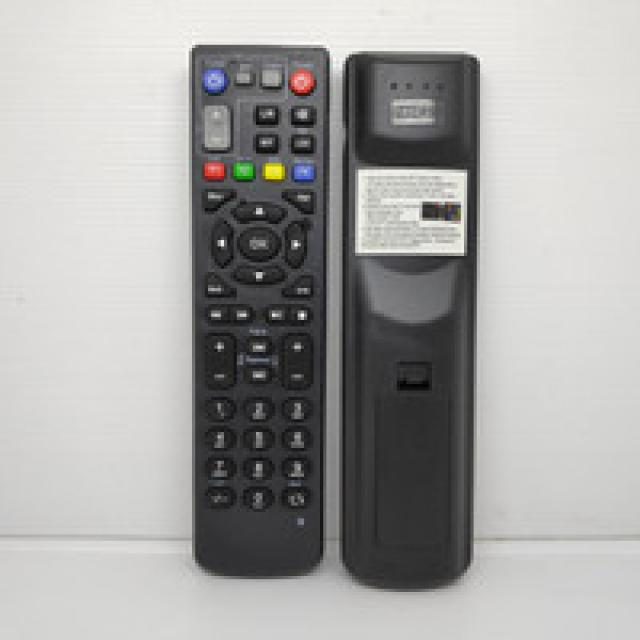remote: (190, 43, 327, 585), (340, 52, 475, 597)
